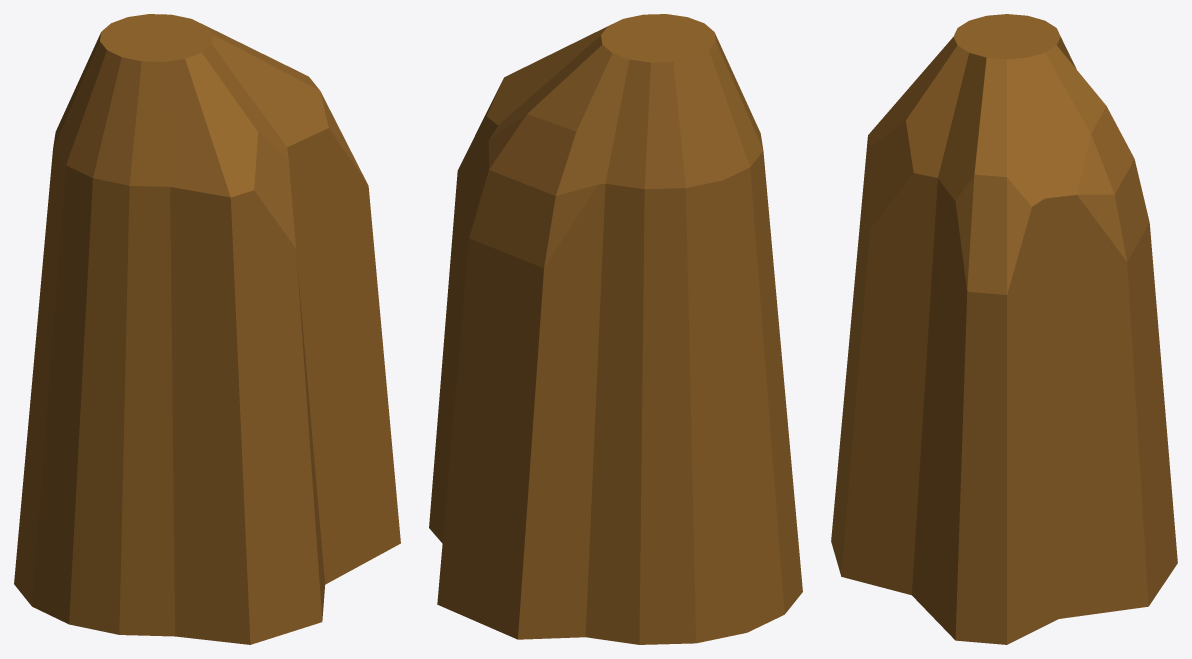
The model's file is sand_mountain.glb.
The picture shows the model from 3 angles, left to right: view 1: azimuth 30°, elevation 25°; view 2: azimuth 150°, elevation 25°; view 3: azimuth 270°, elevation 25°; orthographic projection. The views are drawn at different scales.
Visible parts, largest first — view 1: sandmountain; view 2: sandmountain; view 3: sandmountain.
Part boxes in pixels (bbox=[...]): sandmountain: bbox=[14, 14, 400, 644]; sandmountain: bbox=[429, 14, 802, 644]; sandmountain: bbox=[831, 14, 1177, 644].
Bounding box in the file's own units: 9.27 × 13.59 × 8.46.
